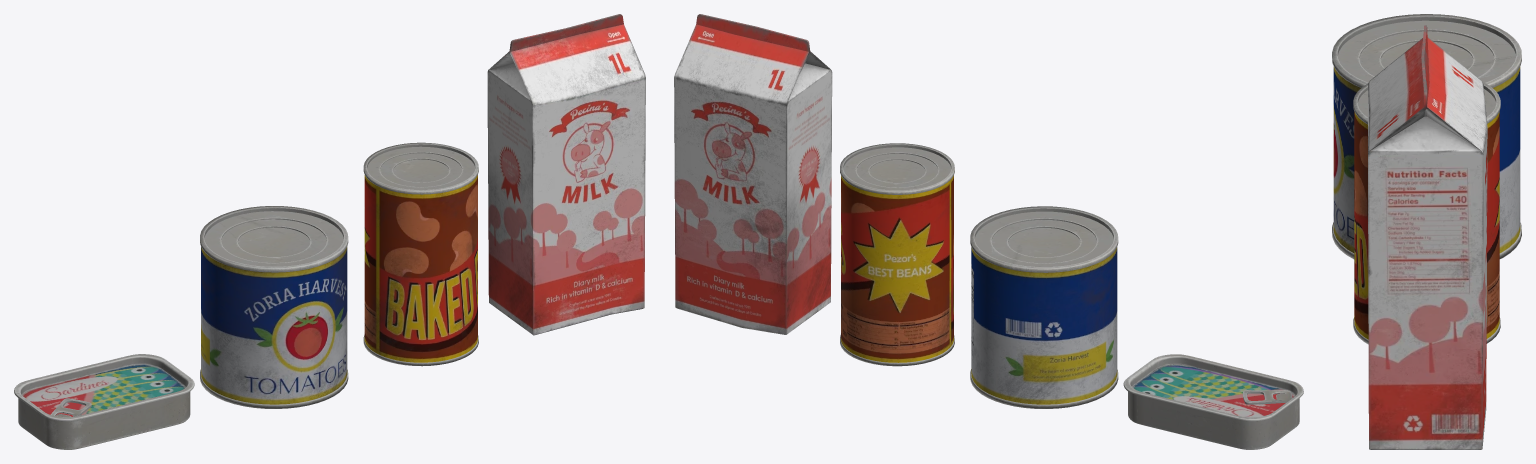
The model's file is long_life_food.glb.
3 views of the same model, side by side, from view 1: azimuth 30°, elevation 25°; view 2: azimuth 150°, elevation 25°; view 3: azimuth 270°, elevation 25° (orthographic). The views are drawn at different scales.
Parts seen in each view (by area): view 1: long_life_food_milk, long_life_food_tomatoes, long_life_food_beans, long_life_food_sardines; view 2: long_life_food_milk, long_life_food_tomatoes, long_life_food_beans, long_life_food_sardines; view 3: long_life_food_milk, long_life_food_tomatoes, long_life_food_beans.
Boxes of the visible parts, x1=… form: long_life_food_milk: x1=487, y1=14, x2=645, y2=335; long_life_food_tomatoes: x1=200, y1=206, x2=348, y2=408; long_life_food_beans: x1=363, y1=142, x2=478, y2=366; long_life_food_sardines: x1=14, y1=354, x2=194, y2=449; long_life_food_milk: x1=674, y1=14, x2=832, y2=334; long_life_food_tomatoes: x1=970, y1=206, x2=1118, y2=408; long_life_food_beans: x1=840, y1=143, x2=954, y2=366; long_life_food_sardines: x1=1123, y1=354, x2=1303, y2=449; long_life_food_milk: x1=1368, y1=25, x2=1487, y2=449; long_life_food_tomatoes: x1=1332, y1=14, x2=1521, y2=259; long_life_food_beans: x1=1353, y1=81, x2=1500, y2=344.
Bounding box in the file's own units: 0.5238 × 0.2376 × 0.1136.
Materials: 1 (1 with a texture image).
